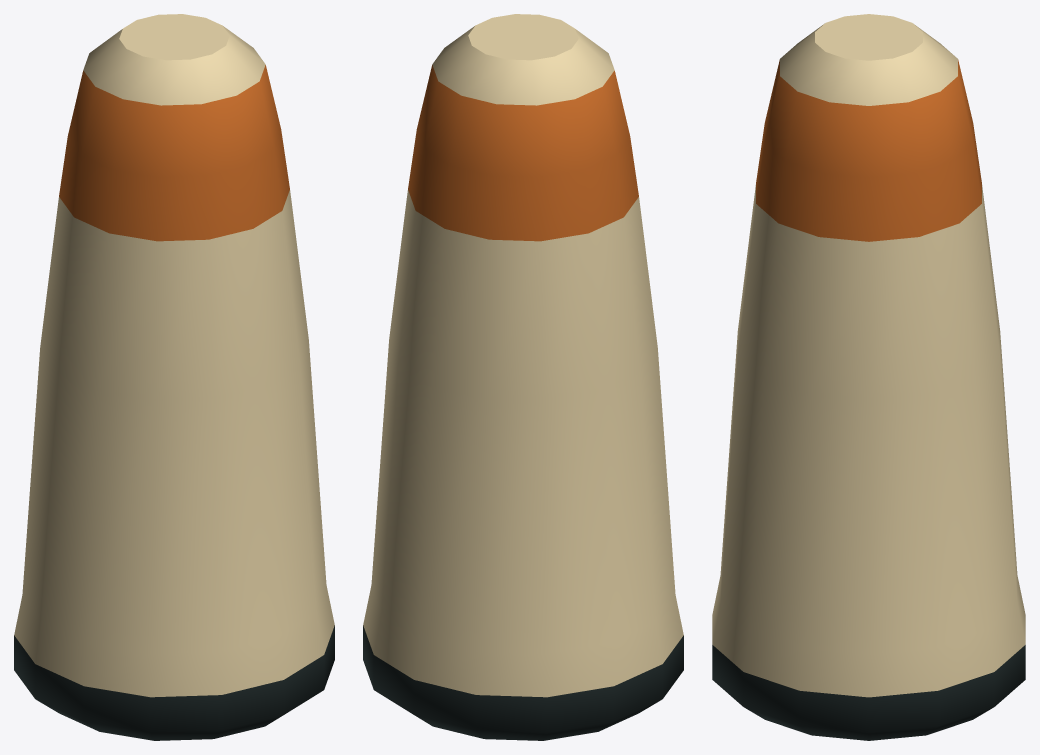
File: wsc-plan-005-skittle-pin.glb
3 views of the same model, side by side, from view 1: azimuth 30°, elevation 25°; view 2: azimuth 150°, elevation 25°; view 3: azimuth 270°, elevation 25° (orthographic).
Visible parts, largest first — view 1: Skittle_Floor_Pivot; view 2: Skittle_Floor_Pivot; view 3: Skittle_Floor_Pivot.
Part boxes in pixels (<box>): Skittle_Floor_Pivot: <box>14,14,334,740</box>; Skittle_Floor_Pivot: <box>363,14,683,740</box>; Skittle_Floor_Pivot: <box>712,14,1025,740</box>.
Bounding box in the file's own units: 0.58 × 1.29 × 0.5655.
